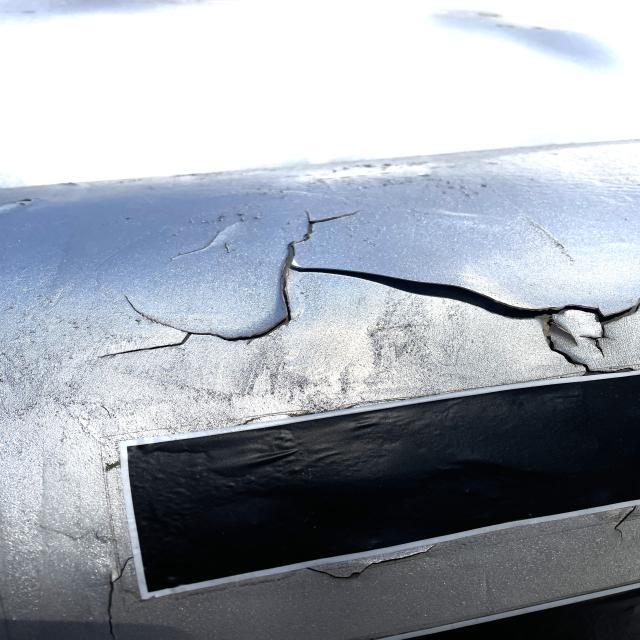crack: (297, 266, 627, 337), (101, 271, 290, 374), (268, 215, 370, 263)
